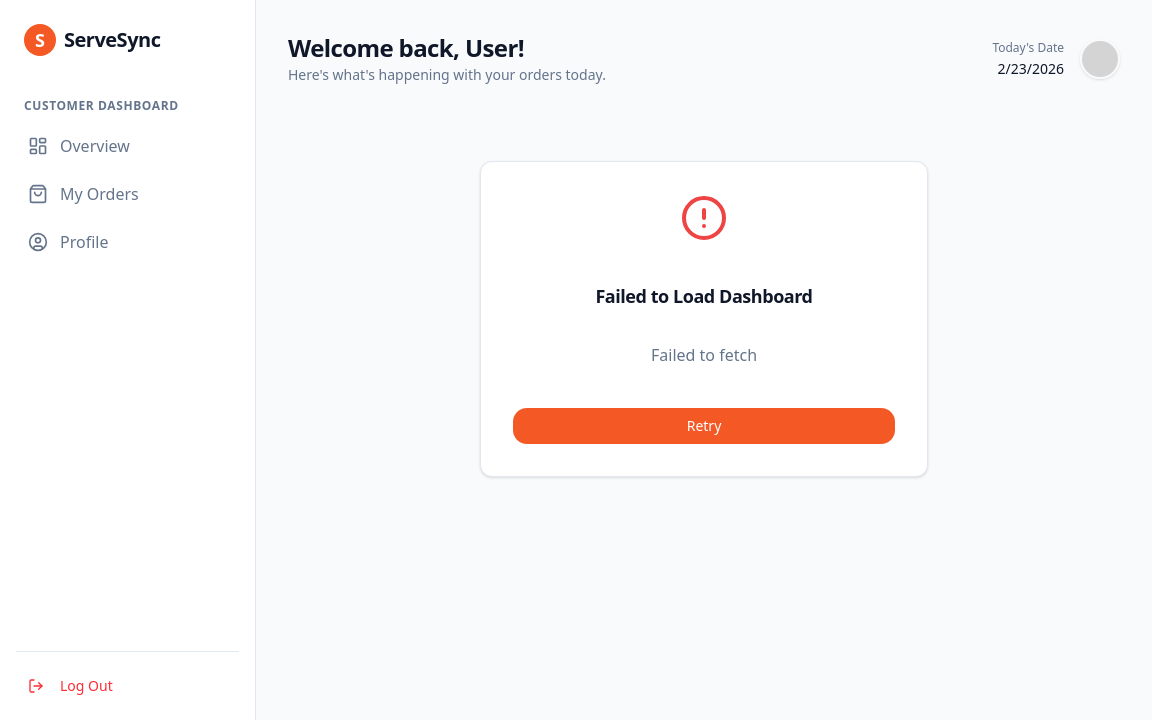
Admin Dashboard Page › should retry fetching data when retry button is clicked
Check: the heading "Failed to Load Dashboard" is shown, box [595, 284, 812, 308]
Click the button "Retry". click: [704, 426]
box: [513, 408, 895, 444]
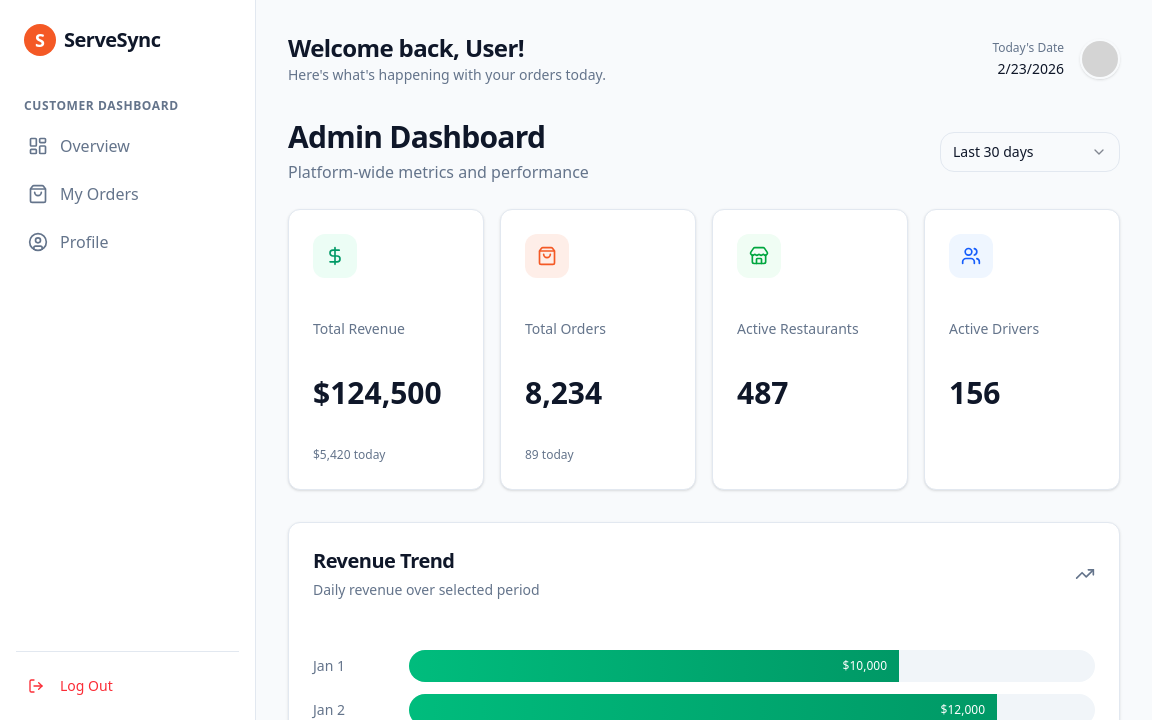
Check: the heading "Admin Dashboard" is shown, box [288, 119, 589, 155]
Check: the text "$124,500" is shown, box [313, 368, 459, 417]
